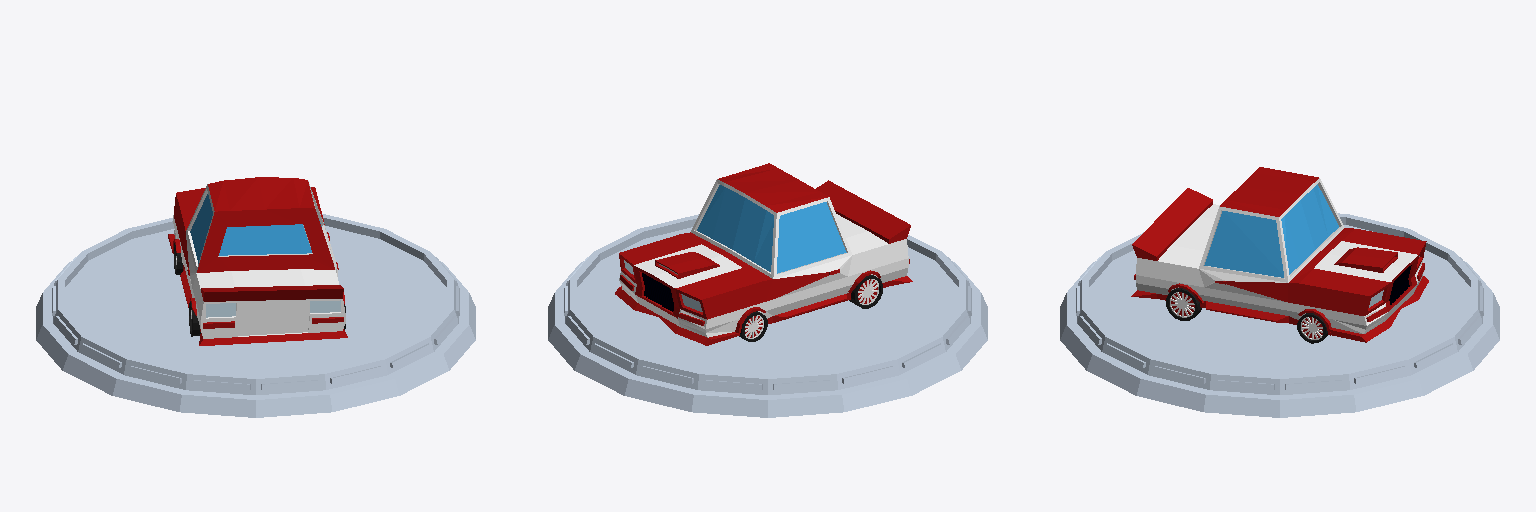
File: Low-Poly-Racing-Car.obj
3 views of the same model, side by side, from view 1: azimuth 30°, elevation 25°; view 2: azimuth 150°, elevation 25°; view 3: azimuth 270°, elevation 25° (orthographic).
Parts seen in each view (by area): view 1: platform_ID19, body_ID56, backlight_ID75; view 2: platform_ID19, body_ID56, wheel.1_ID84, lattice.1_ID29, wheel1.1_ID93; view 3: platform_ID19, body_ID56, wheel.1_ID84, wheel1.1_ID93.
Boxes of the visible parts, <box> form: platform_ID19: <box>36,214,475,417</box>; body_ID56: <box>168,177,347,345</box>; backlight_ID75: <box>206,300,340,317</box>; platform_ID19: <box>548,214,987,417</box>; body_ID56: <box>615,163,912,345</box>; wheel.1_ID84: <box>849,275,882,308</box>; lattice.1_ID29: <box>642,273,673,311</box>; wheel1.1_ID93: <box>739,311,767,341</box>; platform_ID19: <box>1060,213,1499,417</box>; body_ID56: <box>1131,167,1428,342</box>; wheel.1_ID84: <box>1166,288,1201,320</box>; wheel1.1_ID93: <box>1297,313,1327,343</box>.
Size of the model in its own units: 3.95 by 1.32 by 3.89.